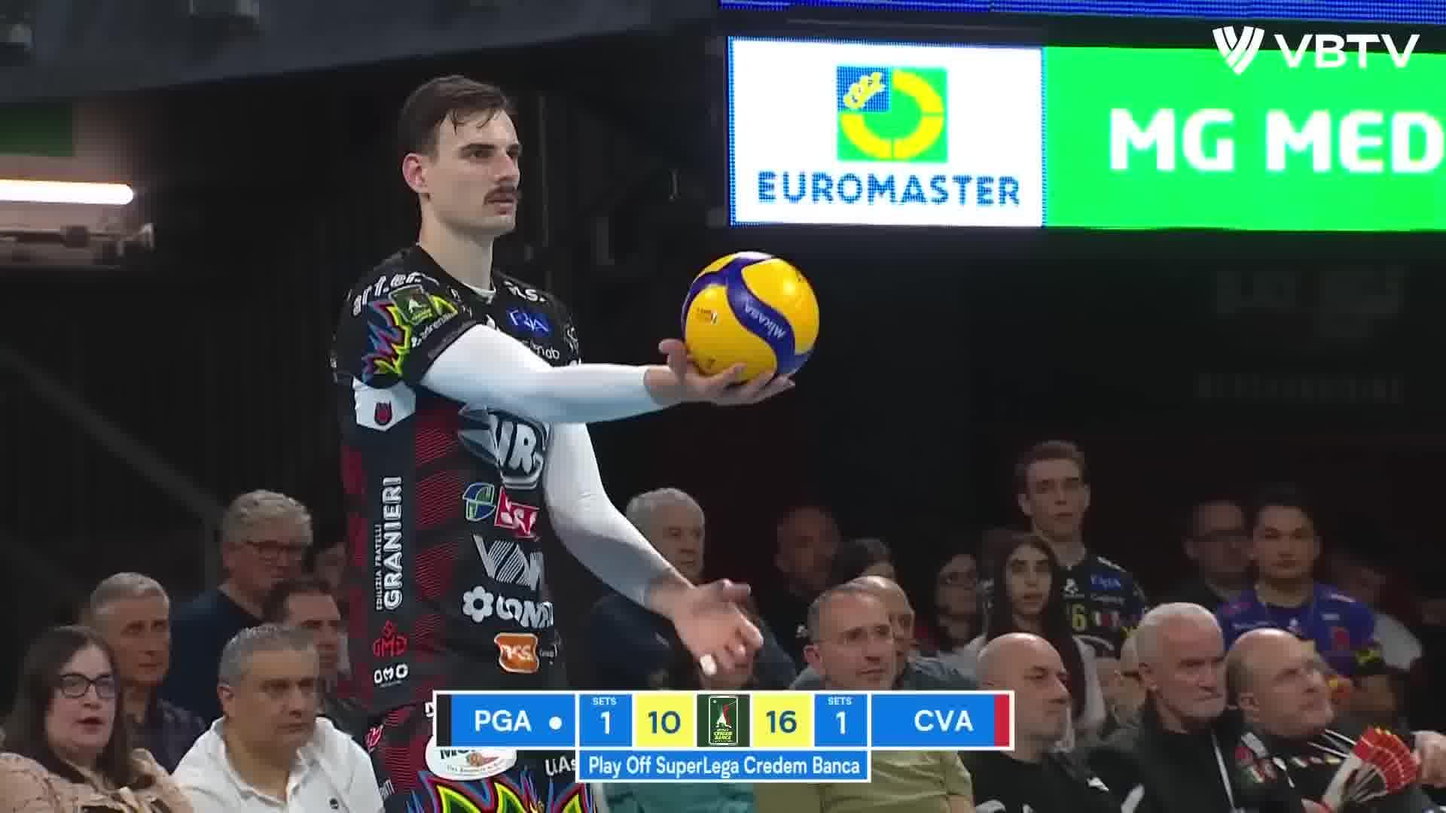balls: (679, 242, 822, 388)
